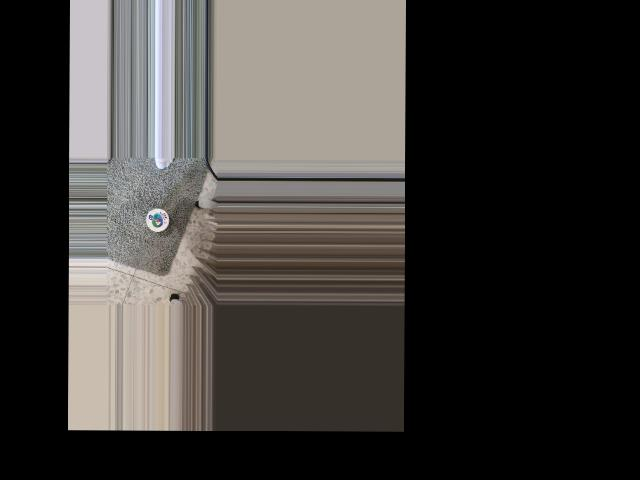cotage: (145, 209, 169, 232)
